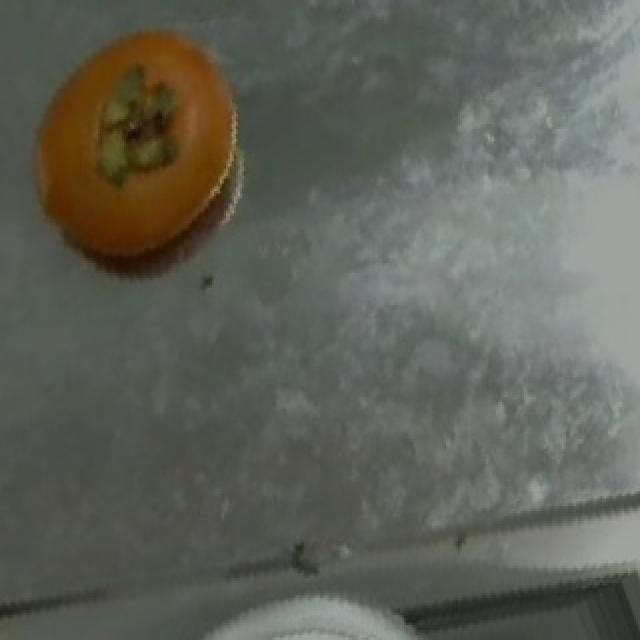Fruit: (8, 5, 270, 285)
